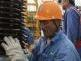gloves: (0, 35, 24, 60), (0, 17, 13, 33)
hard-hat: (33, 0, 62, 20)
